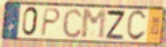0: (22, 6, 39, 38)
C: (125, 9, 148, 43), (61, 7, 84, 39)
M: (81, 8, 108, 40)
P: (39, 7, 62, 38)
Z: (105, 9, 126, 41)
